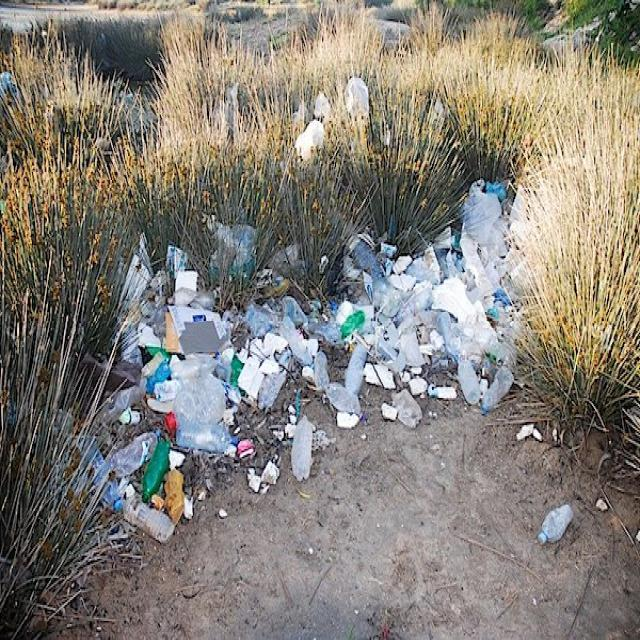plastic: (85, 174, 543, 548), (295, 89, 332, 167), (334, 71, 374, 134), (535, 500, 580, 543), (517, 420, 546, 441)
